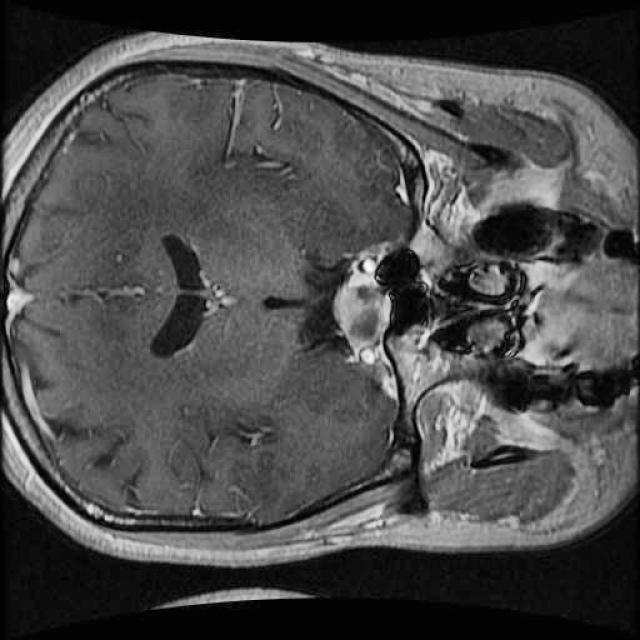Tumor: (326, 266, 406, 362)
